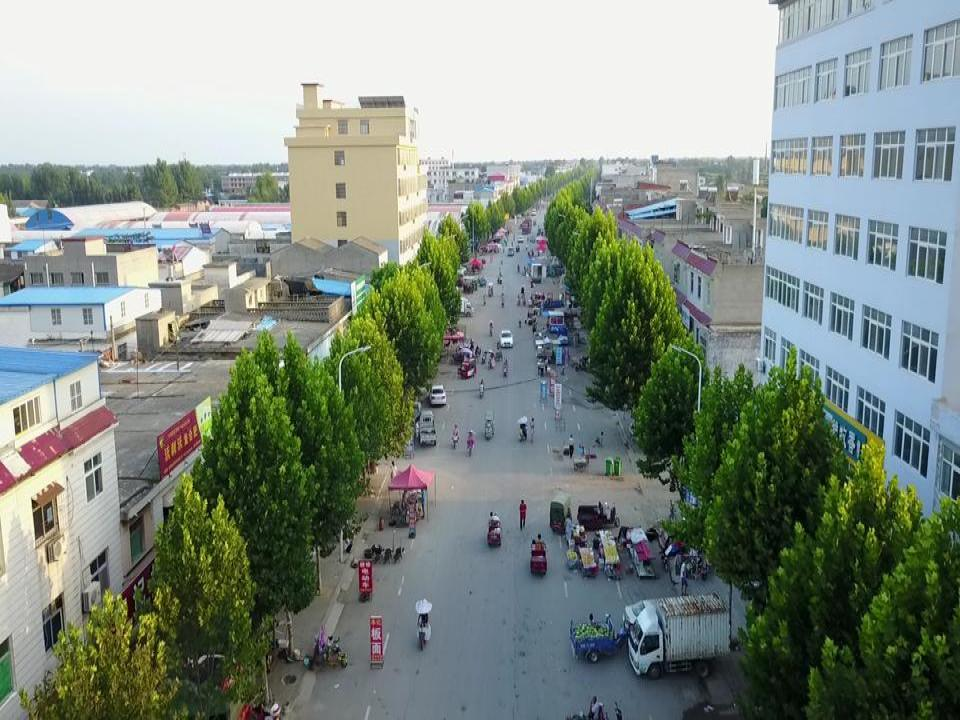car: (622, 597, 690, 640), (428, 384, 446, 407), (499, 329, 514, 348)
truck: (627, 592, 730, 680), (414, 409, 437, 447), (557, 325, 569, 347)
